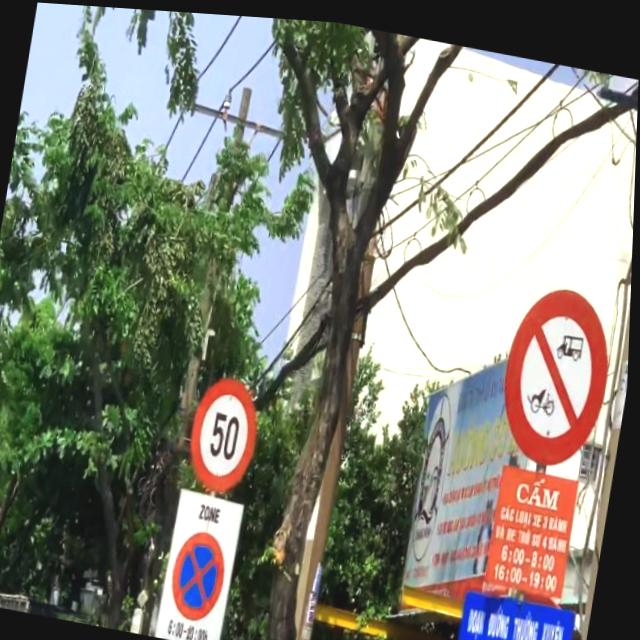Cam dung xe va do xe: (171, 523, 235, 623)
Toc do toi da cho phep: (186, 367, 268, 494)
